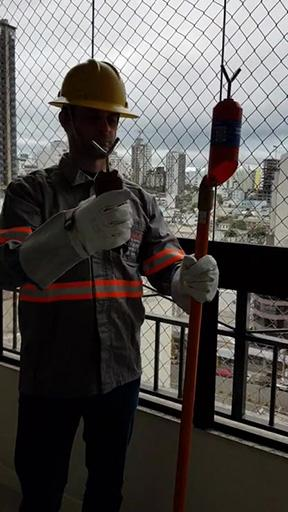Detector_Tensao_Contato: (207, 64, 244, 187), (92, 136, 126, 245)
Vara_Manobra: (171, 183, 214, 512)
